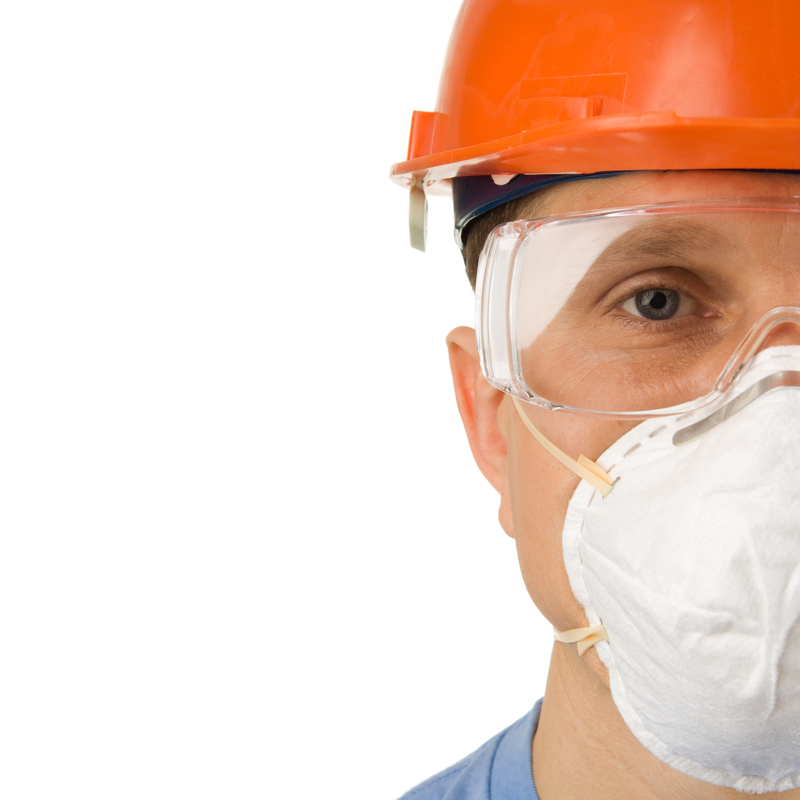Helmet: (387, 1, 800, 198)
Mask: (560, 336, 800, 796)
